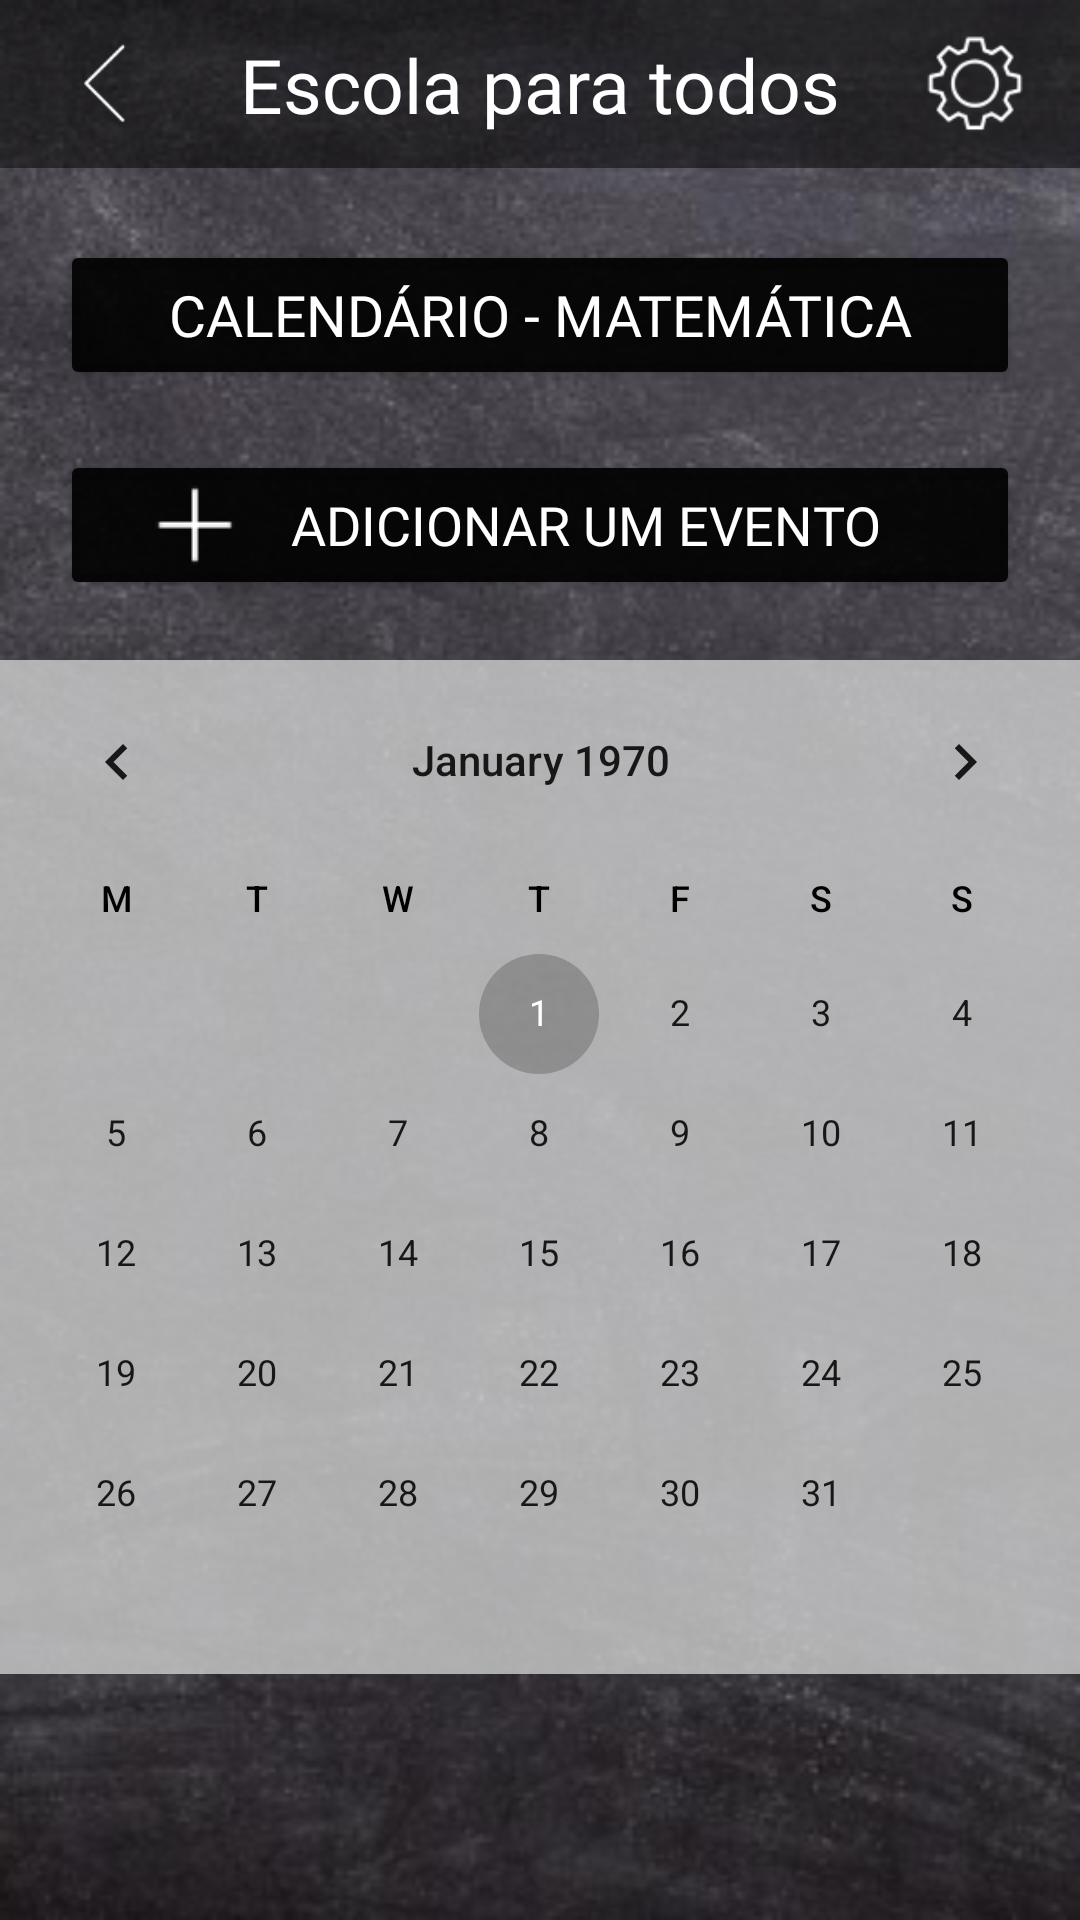

Where icons sit on this 1080 x 1920 app screen, as (x1, y1, x2, y2):
config: (927, 36, 1023, 130)
voltar: (84, 44, 125, 122)
